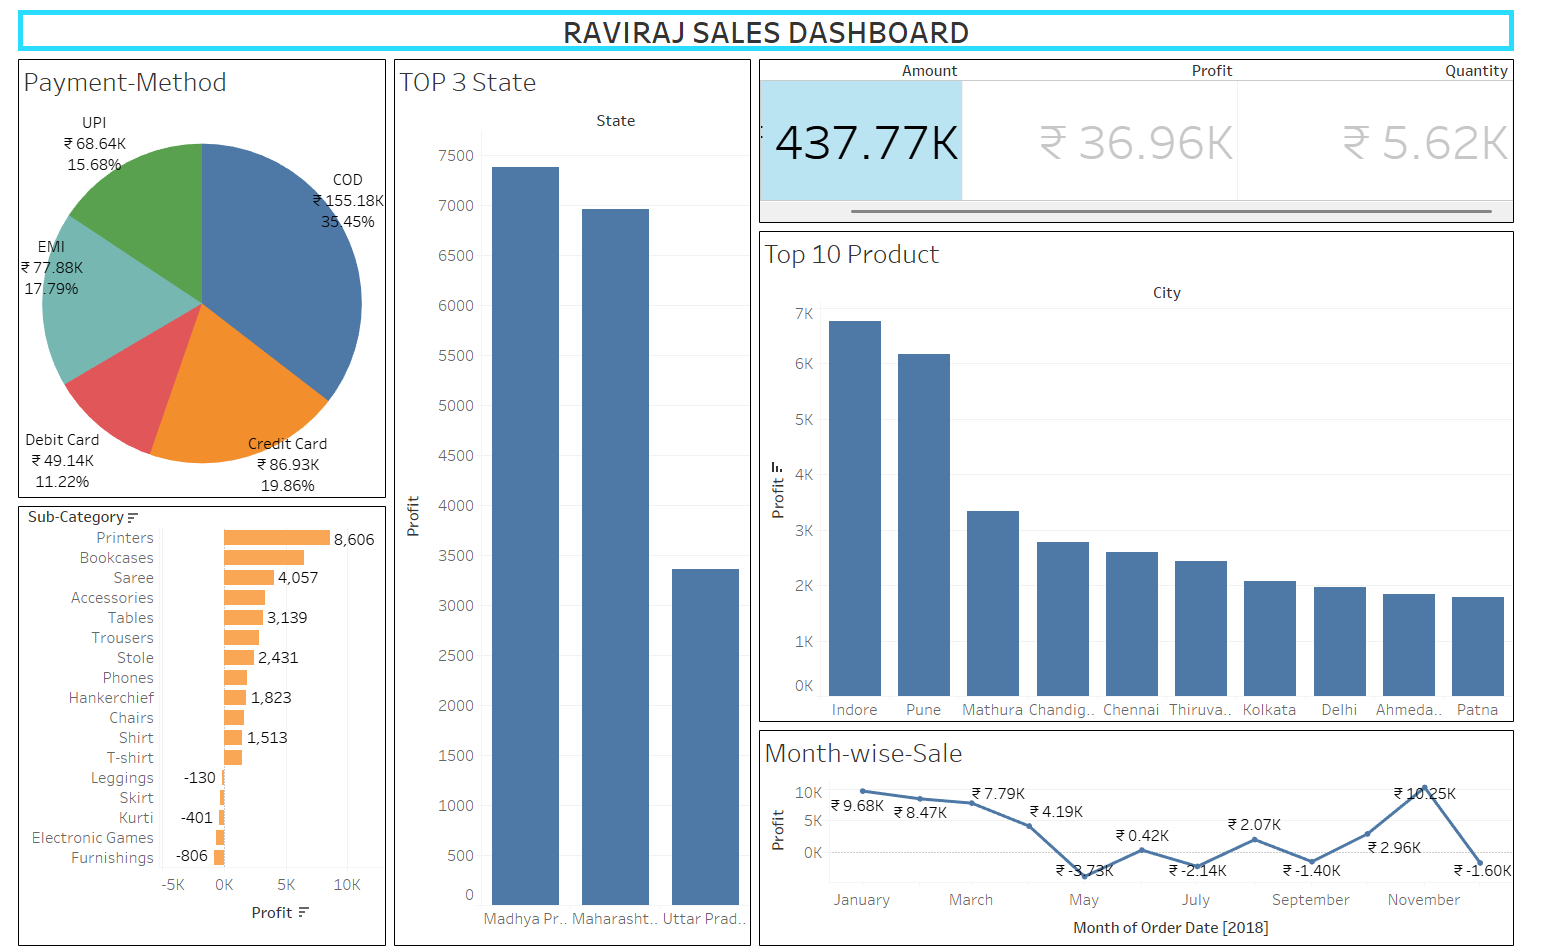

Layout of this report page (visuals, bound fields, positions):
{"tool":"tableau","page":{"name":"sales dashboad ","canvas":[1000,1000],"units":"permille","ordinal":1},"visuals":[{"type":"title","box":[5.3,10,989.5,61.1]},{"type":"worksheet","title":"Payment-Method","mark":"Pie","box":[5.3,71.1,247.3,459.5]},{"type":"worksheet","title":"TOP 3 State","mark":"Automatic","rows":["Profit"],"cols":["State"],"box":[252.6,71.1,240.1,918.9]},{"type":"worksheet","title":"KPI","mark":"Automatic","box":[492.8,71.1,502,176.5]},{"type":"worksheet","title":"Top 10 Product ","mark":"Automatic","rows":["Profit"],"cols":["City"],"box":[492.8,247.6,502,512.6]},{"type":"worksheet","title":"SUb-Category-Profit","mark":"Automatic","rows":["Sub-Category"],"cols":["Profit"],"box":[5.3,530.5,247.3,459.5]},{"type":"worksheet","title":"Month-wise-Sale","mark":"Line","rows":["Profit"],"cols":["Order Date"],"box":[492.8,760.2,502,229.8]}]}

Visuals, with their boxes on the dashboard's canvas, which has no fixed pixel size, in thousandths of its width and height (x1, y1, x2, y2). These are canvas units, not pixel positions in the 1545x947 screenshot, which may show the page scaled, cropped or inside an application window:
title: [5,10,995,71]
"Payment-Method" worksheet (Pie marks): [5,71,253,531]
"TOP 3 State" worksheet: [253,71,493,990]
"KPI" worksheet: [493,71,995,248]
"Top 10 Product " worksheet: [493,248,995,760]
"SUb-Category-Profit" worksheet: [5,530,253,990]
"Month-wise-Sale" worksheet (Line marks): [493,760,995,990]
